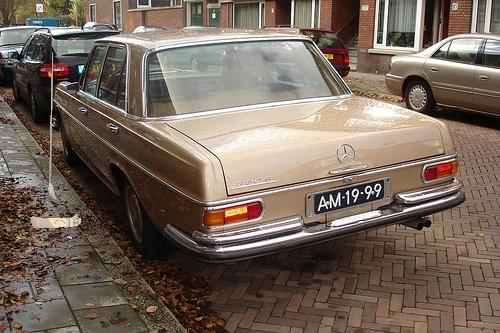tampered: (32, 53, 81, 228)
